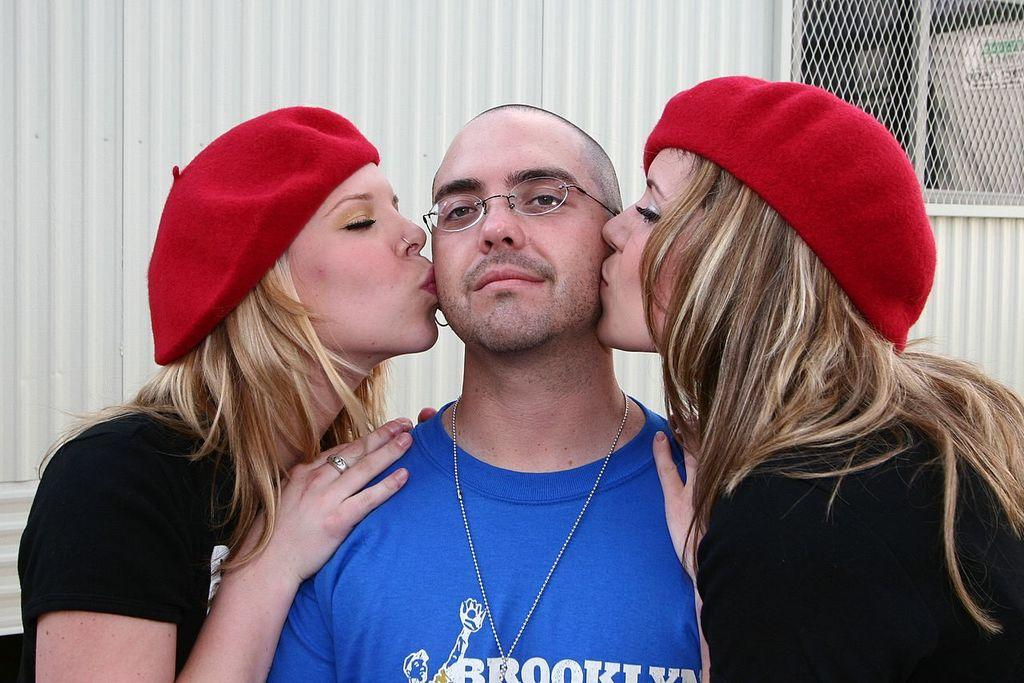Hat: (147, 102, 399, 362)
